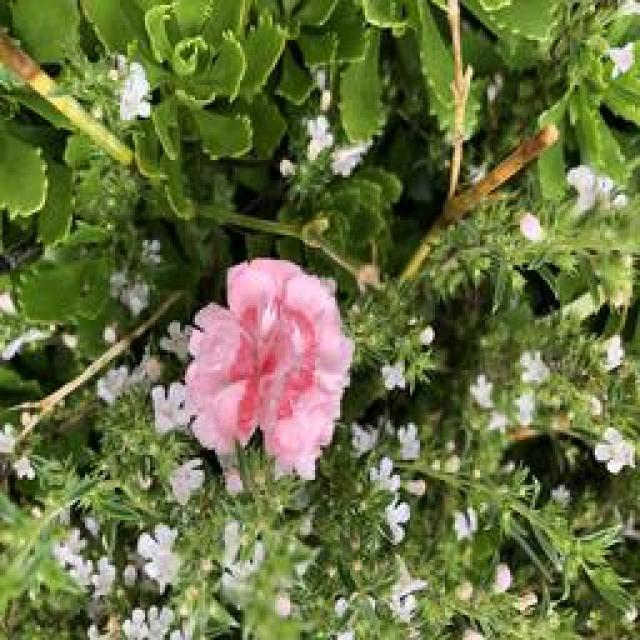carnation: (173, 239, 367, 482)
